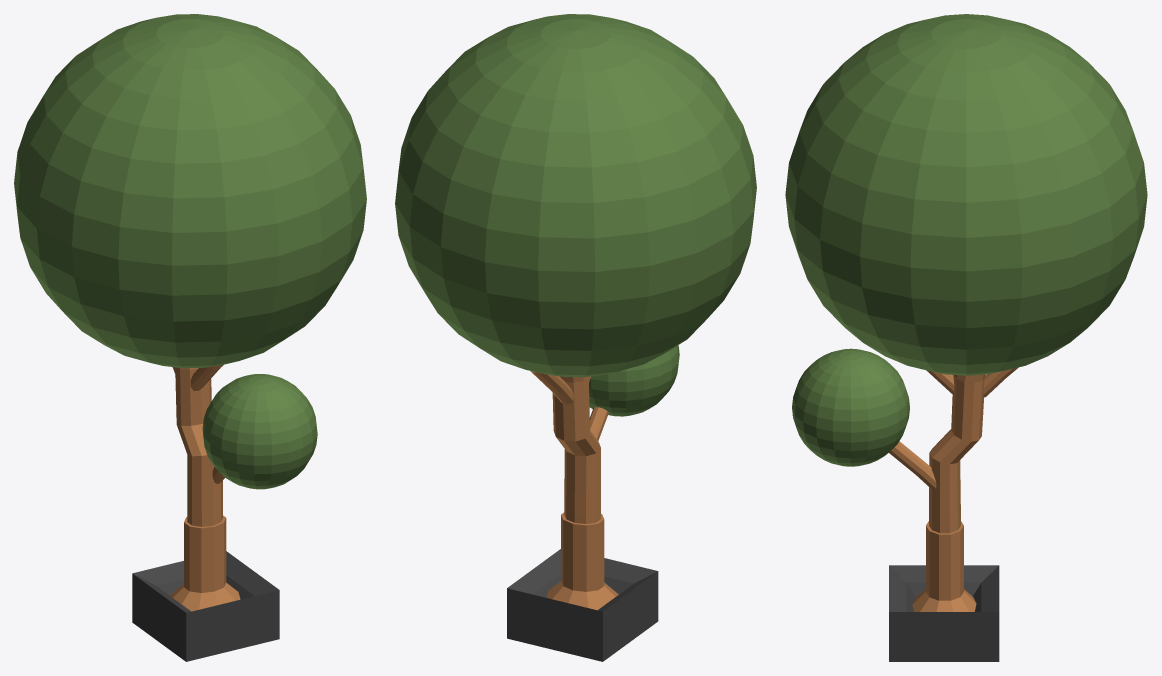
Rendered from tree1.fbx.
3 views of the same model, side by side, from view 1: azimuth 30°, elevation 25°; view 2: azimuth 150°, elevation 25°; view 3: azimuth 270°, elevation 25° (orthographic). The views are drawn at different scales.
Visible parts, largest first — view 1: Sphere, Sphere.001, Cube, Cylinder; view 2: Sphere, Cube, Cylinder, Sphere.001, Cylinder.002; view 3: Sphere, Sphere.001, Cylinder, Cube, Cylinder.003.
Part boxes in pixels (bbox=[...]): Sphere: bbox=[14, 14, 366, 368]; Sphere.001: bbox=[202, 374, 317, 489]; Cube: bbox=[132, 551, 279, 661]; Cylinder: bbox=[170, 367, 240, 611]; Sphere: bbox=[395, 14, 756, 377]; Cube: bbox=[507, 549, 658, 661]; Cylinder: bbox=[546, 376, 618, 610]; Sphere.001: bbox=[589, 345, 679, 416]; Cylinder.002: bbox=[530, 371, 573, 404]; Sphere: bbox=[785, 14, 1147, 375]; Sphere.001: bbox=[792, 348, 909, 466]; Cylinder: bbox=[912, 374, 985, 611]; Cube: bbox=[889, 565, 999, 661]; Cylinder.003: bbox=[889, 441, 936, 490].
Bounding box in the file's own units: 1136 × 2097 × 1136.
